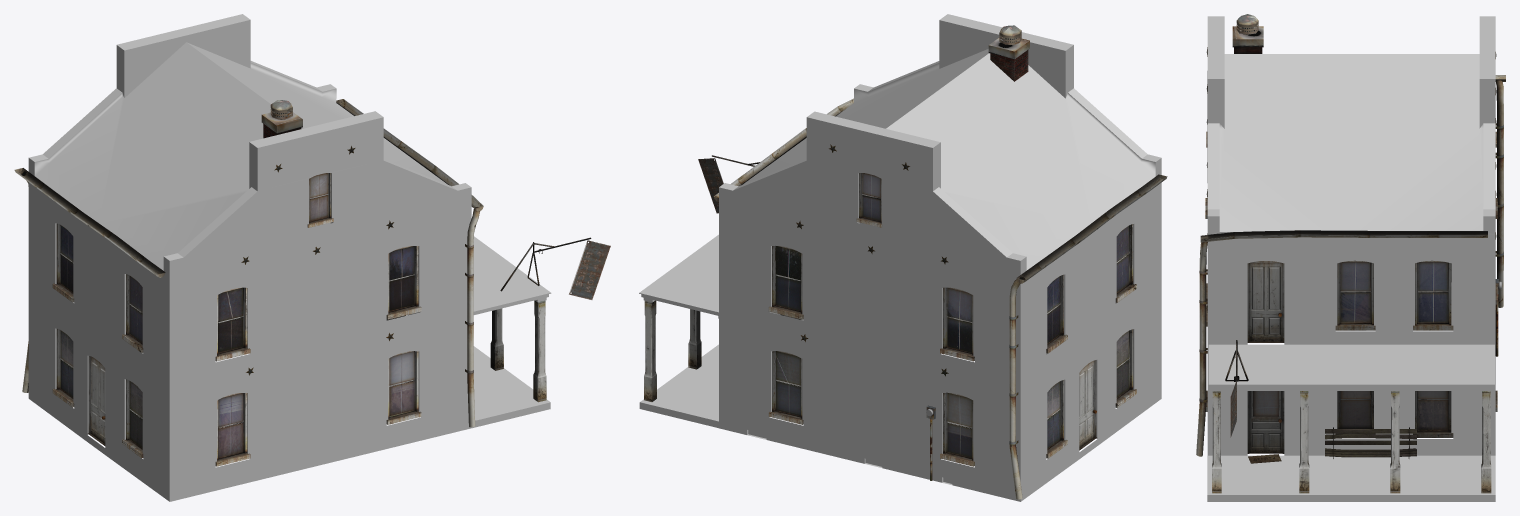
File: 107_Main.fbx
3 renders of one model, left to right at view 1: azimuth 30°, elevation 25°; view 2: azimuth 150°, elevation 25°; view 3: azimuth 270°, elevation 25°, orthographic. The views are drawn at different scales.
Parts seen in each view (by area): view 1: Exterior, Trims, Glass, Alpha_Trims, Back_Door; view 2: Exterior, Trims, Glass, Back_Door, Alpha_Trims; view 3: Exterior, Trims, Glass, Upper_Door, Main_Door, Alpha_Trims, Plaque.
Boxes of the visible parts, box(x1,y1,x2,y2) form: Exterior: box(28, 14, 551, 501); Trims: box(14, 99, 591, 466); Glass: box(60, 173, 414, 457); Alpha_Trims: box(270, 105, 610, 299); Back_Door: box(90, 356, 105, 443); Exterior: box(639, 14, 1161, 501); Trims: box(644, 25, 1167, 499); Glass: box(776, 173, 1129, 457); Back_Door: box(1079, 360, 1094, 448); Alpha_Trims: box(698, 31, 1021, 213); Exterior: box(1207, 16, 1495, 501); Trims: box(1196, 14, 1505, 493); Glass: box(1253, 262, 1448, 429); Upper_Door: box(1249, 262, 1282, 341); Main_Door: box(1249, 391, 1282, 452); Alpha_Trims: box(1230, 21, 1409, 458); Plaque: box(1381, 392, 1405, 413).
Bounding box in the file's own units: 30.35 × 22.23 × 17.25.
